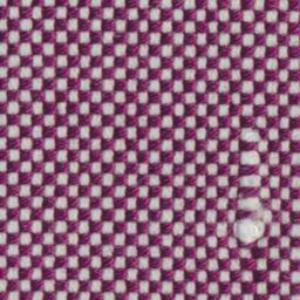defect: (228, 104, 270, 244)
